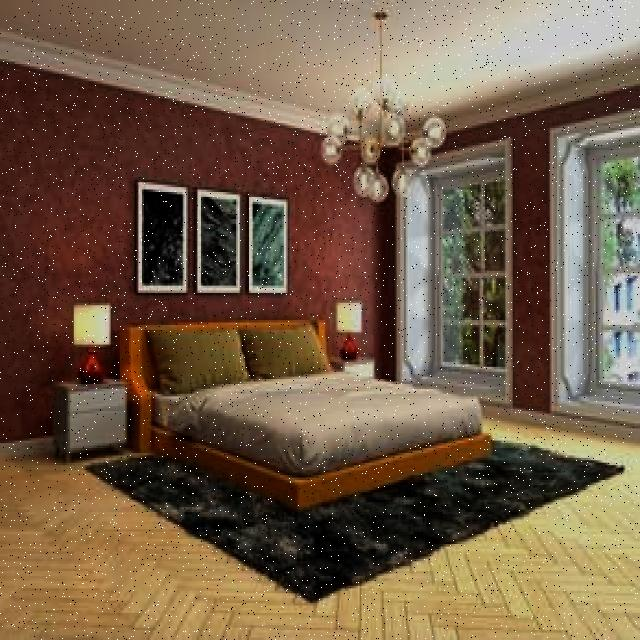bed: (138, 322, 490, 486)
